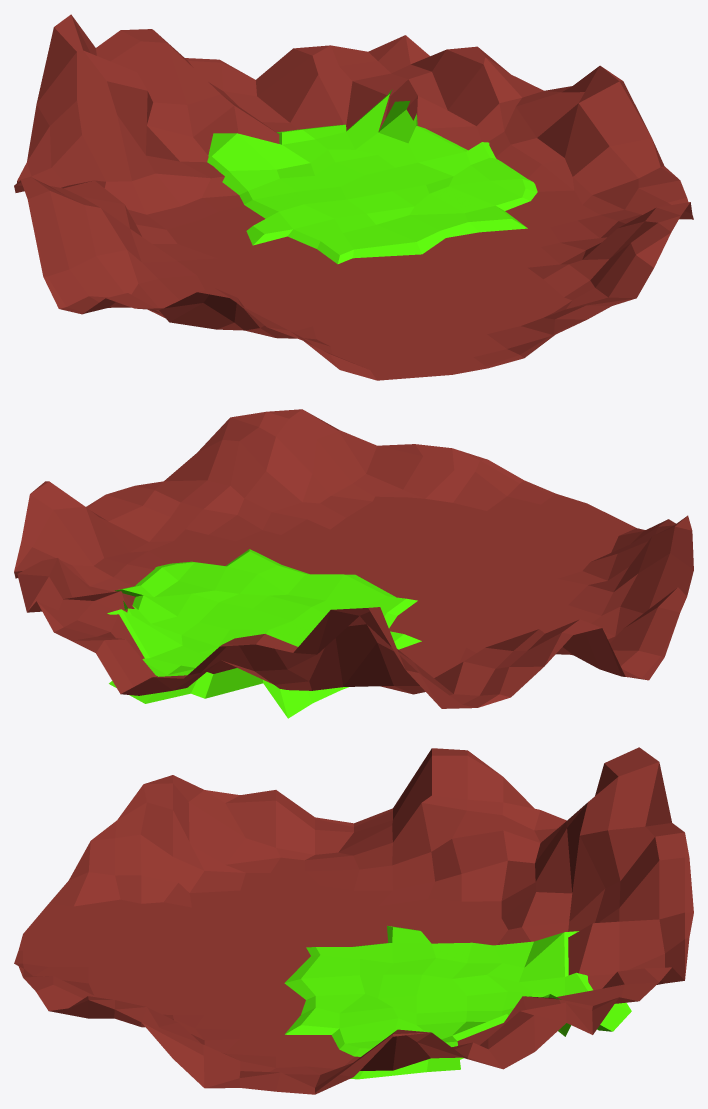
The model's file is Mars-One_map_terraforming_02.FBX.
The picture shows the model from 3 angles, top to bottom: view 1: azimuth 30°, elevation 25°; view 2: azimuth 150°, elevation 25°; view 3: azimuth 270°, elevation 25°; orthographic projection.
Parts seen in each view (by area): view 1: Circle001; view 2: Circle001; view 3: Circle001.
Boxes of the visible parts, x1=… form: Circle001: x1=14, y1=14, x2=693, y2=380; Circle001: x1=14, y1=409, x2=693, y2=718; Circle001: x1=14, y1=747, x2=693, y2=1094.
Size of the model in its own units: 413 by 104 by 414.
1 material, 1 textured.
